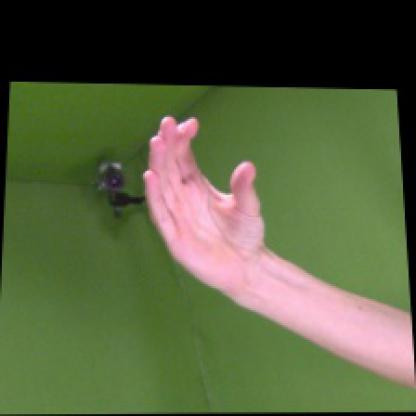Hand: (143, 113, 267, 292)
